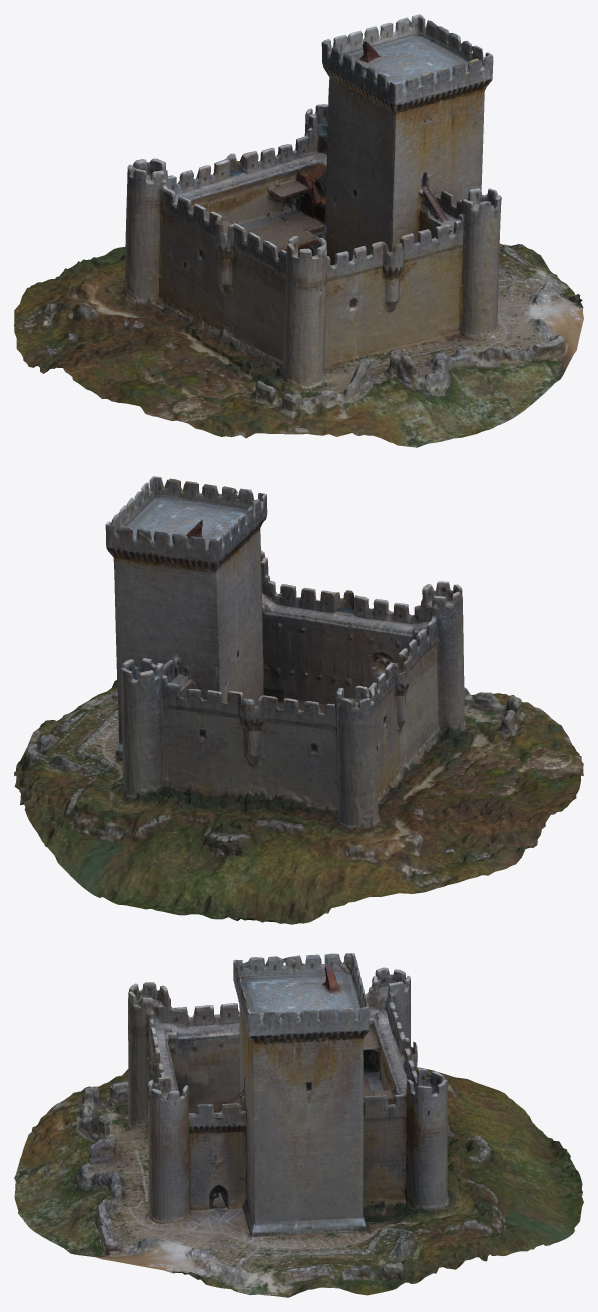
File: castle.glb
3 views of the same model, one above another, from view 1: azimuth 30°, elevation 25°; view 2: azimuth 150°, elevation 25°; view 3: azimuth 270°, elevation 25° (orthographic).
Parts seen in each view (by area): view 1: Object_3; view 2: Object_3; view 3: Object_3.
Part boxes in pixels (<box>): Object_3: <box>14,14,583,447</box>; Object_3: <box>14,476,583,924</box>; Object_3: <box>14,953,583,1297</box>.
Bounding box in the file's own units: 98.61 × 53.41 × 99.34.
1 material, 1 textured.
